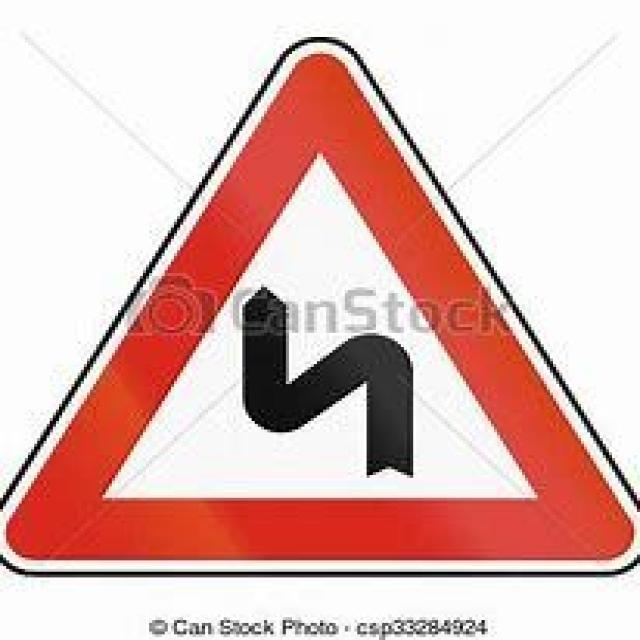left reverse bend: (22, 38, 621, 570)
